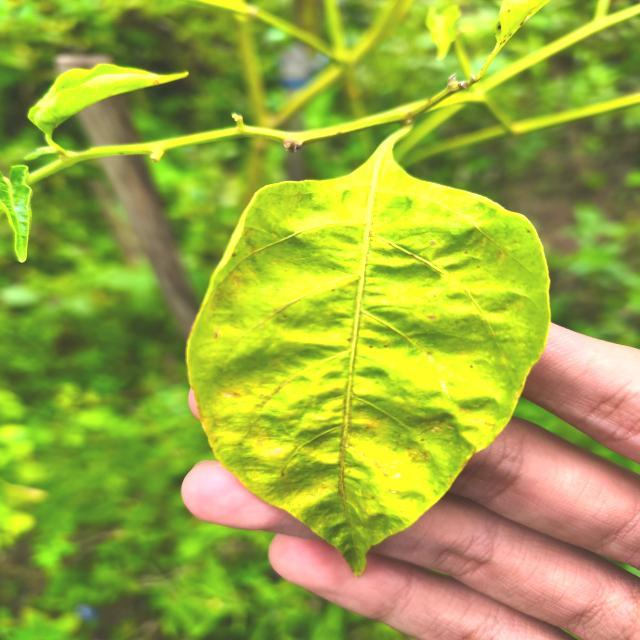Virus Kuning: (185, 123, 552, 576)
